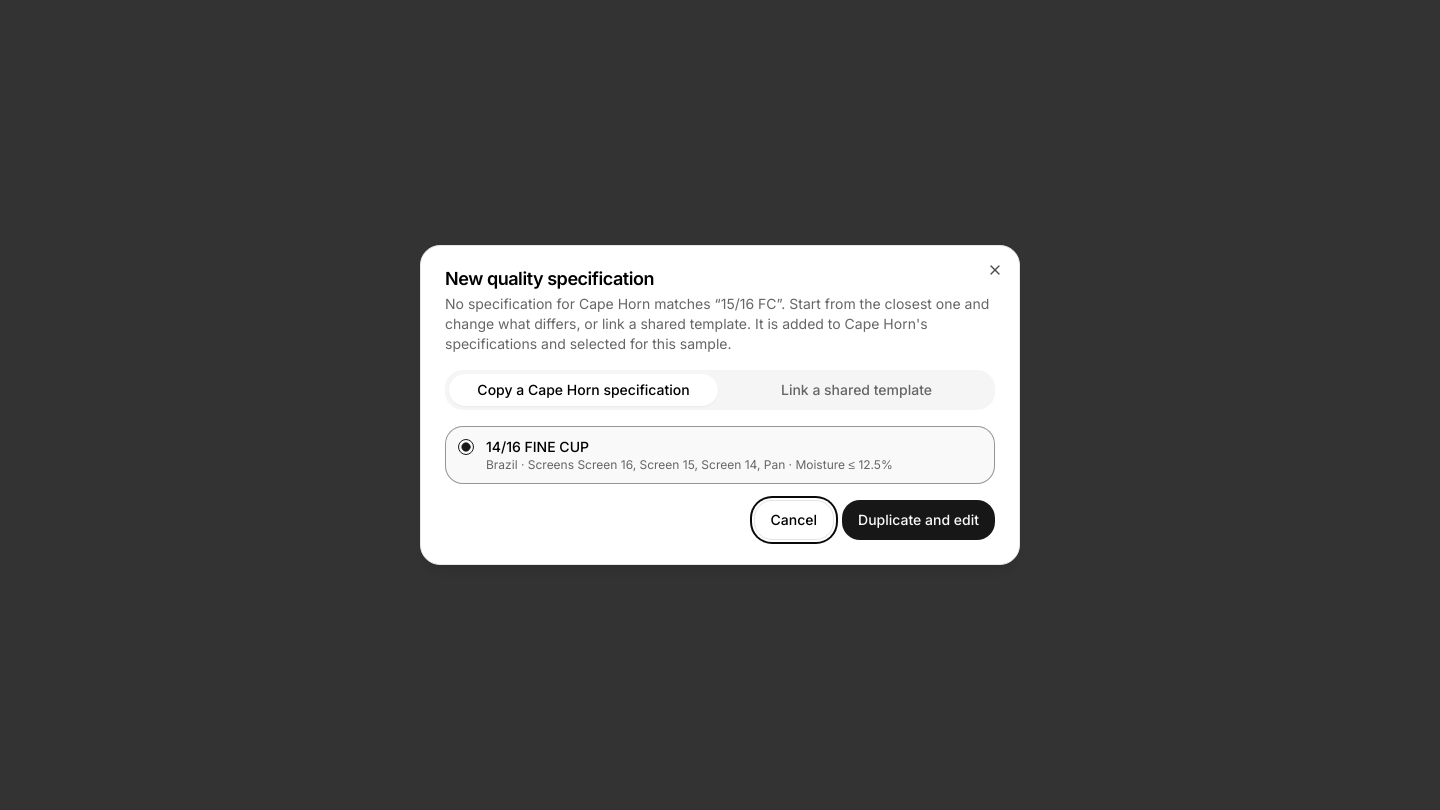
it: LinkQualityTemplateDialog duplicating a client specification › copies the full quality description of the contract’s sys quality, showing what it was
Click the button "Duplicate and edit": [919, 520] box 842,500 -> 995,540
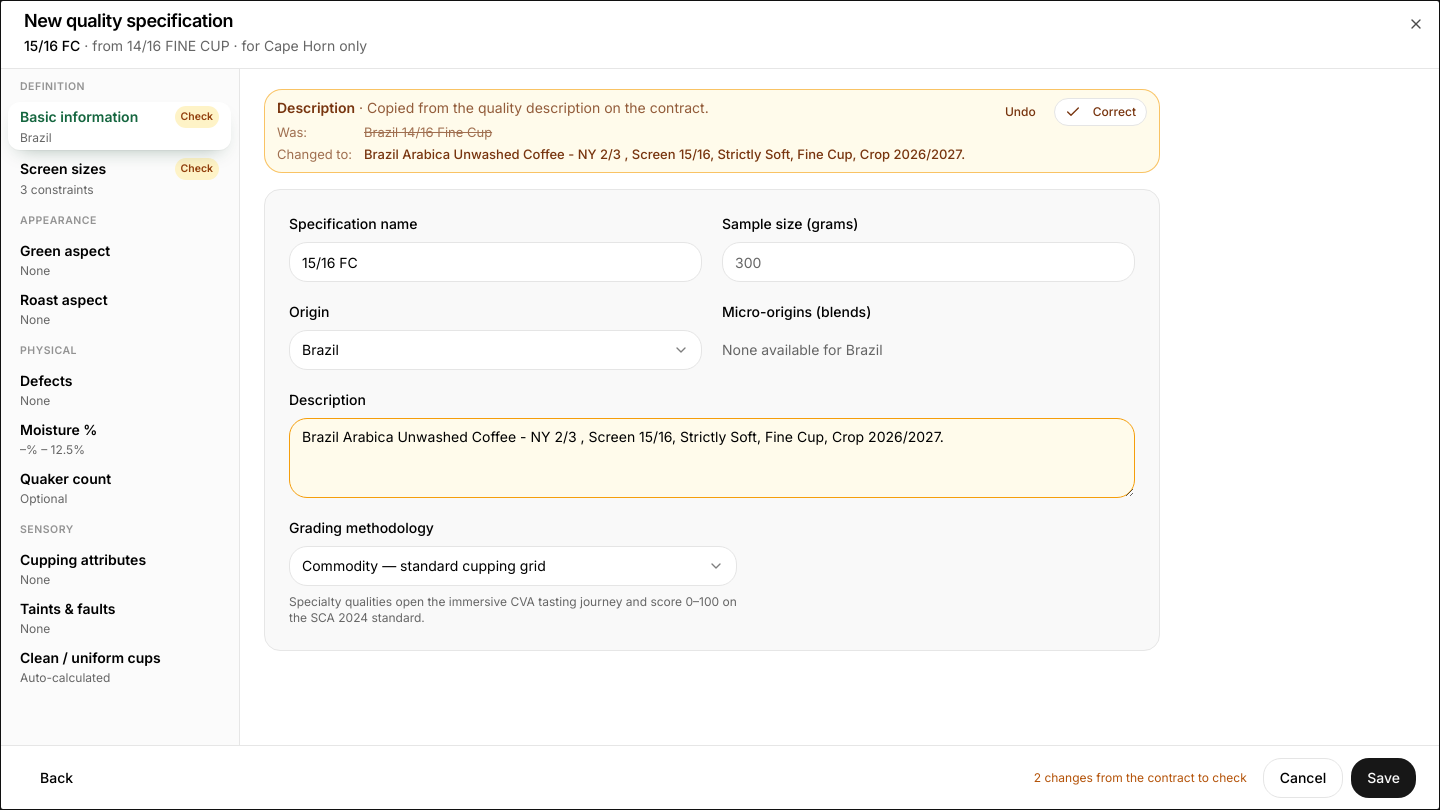
Check: the text box labelled "Description" holds "Brazil Arabica Unwashed Coffee - NY 2/3 , Screen 15/16, Strictly Soft, Fine Cup, Crop 2026/2027.", box 289,418 -> 1135,498
Check: the text "Brazil 14/16 Fine Cup" is shown, box 364,124 -> 492,140
Check: the text "Brazil Arabica Unwashed Coffee - NY 2/3 , Screen 15/16, Strictly Soft, Fine Cup, Crop 2026/2027." is shown, box 364,146 -> 965,162
